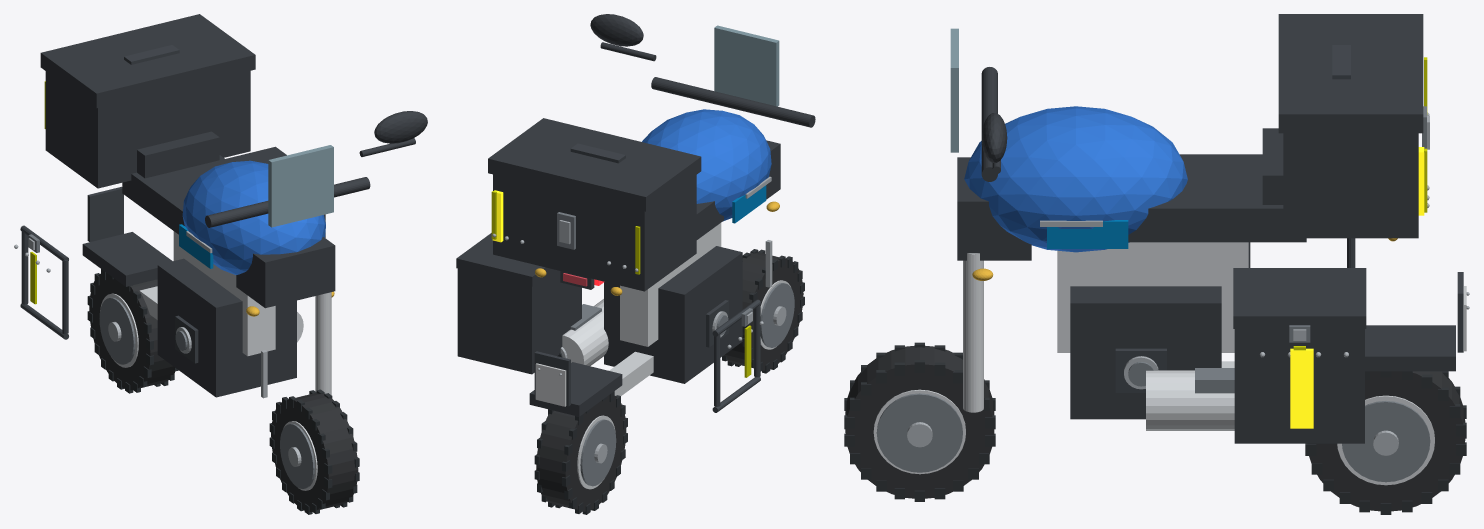
The model's file is adventure-motorcycle.glb.
3 views of the same model, side by side, from view 1: azimuth 30°, elevation 25°; view 2: azimuth 150°, elevation 25°; view 3: azimuth 270°, elevation 25° (orthographic). The views are drawn at different scales.
Parts seen in each view (by area): view 1: Baul trasero, Tapa baul, Motor, Deposito central, Rueda delantera neumatico, Carenado trasero, Parabrisas, Rueda trasera neumatico, Asiento, Guardabarros trasero, Chasis, Colin (+12 smaller); view 2: Baul trasero, Tapa baul, Maleta lateral, Motor, Deposito central, Rueda trasera neumatico, Parabrisas, Chasis, Rueda delantera neumatico, Guardabarros trasero, Manillar, Tapa maleta lateral (+16 smaller); view 3: Deposito central, Tapa baul, Motor, Baul trasero, Maleta lateral, Asiento, Chasis, Rueda delantera neumatico, Tapa maleta lateral, Rueda trasera neumatico, Front brake disc 1, Rear brake disc 1 (+14 smaller).
Boxes of the visible parts, left/top/right/bottom form: Baul trasero: left=45, top=71, right=250, bottom=188; Tapa baul: left=40, top=14, right=255, bottom=108; Motor: left=157, top=258, right=296, bottom=397; Deposito central: left=182, top=160, right=325, bottom=274; Rueda delantera neumatico: left=271, top=392, right=358, bottom=511; Carenado trasero: left=236, top=237, right=335, bottom=308; Parabrisas: left=268, top=145, right=333, bottom=227; Rueda trasera neumatico: left=89, top=272, right=175, bottom=390; Asiento: left=122, top=155, right=229, bottom=234; Guardabarros trasero: left=82, top=232, right=172, bottom=286; Chasis: left=173, top=231, right=275, bottom=356; Colin: left=137, top=131, right=219, bottom=178; Baul trasero: left=493, top=174, right=696, bottom=291; Tapa baul: left=488, top=118, right=701, bottom=211; Maleta lateral: left=457, top=268, right=581, bottom=374; Motor: left=604, top=246, right=742, bottom=383; Deposito central: left=642, top=109, right=771, bottom=221; Rueda trasera neumatico: left=536, top=395, right=626, bottom=511; Parabrisas: left=714, top=25, right=779, bottom=106; Chasis: left=620, top=223, right=721, bottom=346; Rueda delantera neumatico: left=723, top=252, right=803, bottom=370; Guardabarros trasero: left=529, top=362, right=622, bottom=416; Manillar: left=651, top=77, right=815, bottom=127; Tapa maleta lateral: left=456, top=233, right=554, bottom=286; Deposito central: left=964, top=106, right=1187, bottom=252; Tapa baul: left=1278, top=14, right=1423, bottom=133; Motor: left=1070, top=286, right=1221, bottom=419; Baul trasero: left=1283, top=133, right=1418, bottom=238; Maleta lateral: left=1234, top=329, right=1364, bottom=443; Asiento: left=1128, top=154, right=1306, bottom=242; Chasis: left=1057, top=242, right=1248, bottom=352; Rueda delantera neumatico: left=845, top=345, right=994, bottom=498; Tapa maleta lateral: left=1233, top=268, right=1366, bottom=328; Rueda trasera neumatico: left=1307, top=371, right=1465, bottom=511; Front brake disc 1: left=876, top=393, right=962, bottom=472; Rear brake disc 1: left=1342, top=401, right=1430, bottom=482.
Bounding box in the file's own units: 1.79 × 2.17 × 2.68.
